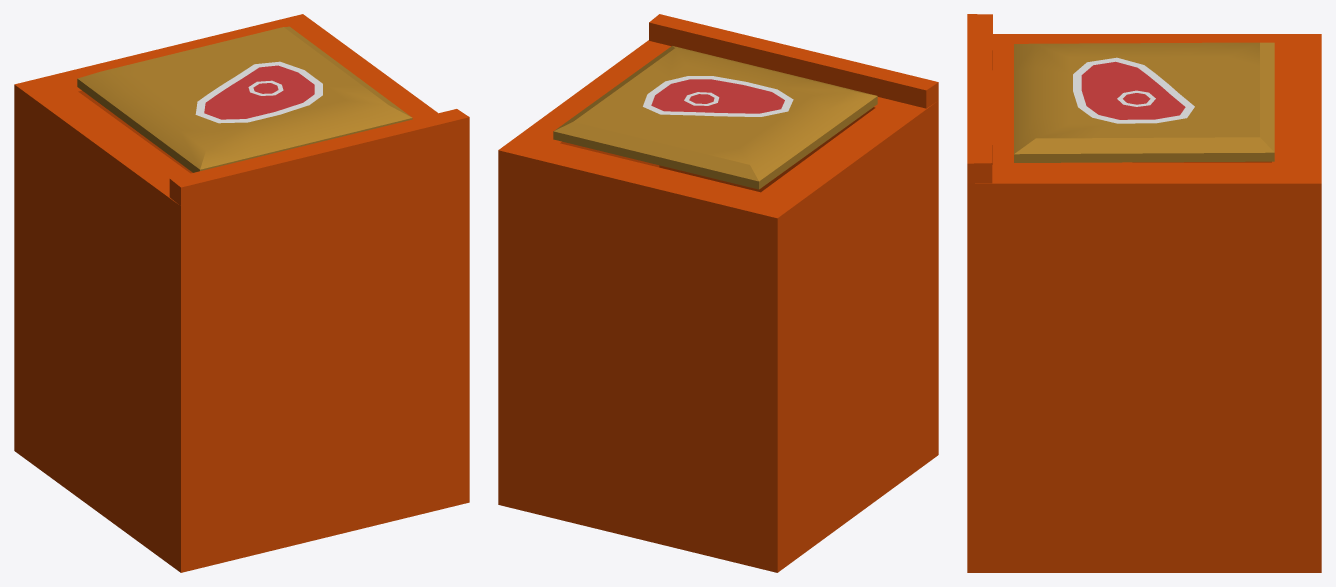
Rendered from BancadaDeCarne.fbx.
3 views of the same model, side by side, from view 1: azimuth 30°, elevation 25°; view 2: azimuth 150°, elevation 25°; view 3: azimuth 270°, elevation 25° (orthographic). The views are drawn at different scales.
Parts seen in each view (by area): view 1: Bancada de Carne, Bancada de Carne.001; view 2: Bancada de Carne, Bancada de Carne.001; view 3: Bancada de Carne, Bancada de Carne.001.
Boxes of the visible parts, bbox=[...] form: Bancada de Carne: bbox=[14, 14, 469, 572]; Bancada de Carne.001: bbox=[77, 26, 412, 172]; Bancada de Carne: bbox=[498, 14, 938, 572]; Bancada de Carne.001: bbox=[553, 46, 877, 189]; Bancada de Carne: bbox=[967, 14, 1321, 572]; Bancada de Carne.001: bbox=[1014, 42, 1274, 162].
Bounding box in the file's own units: 49.1 × 62.83 × 49.1.
